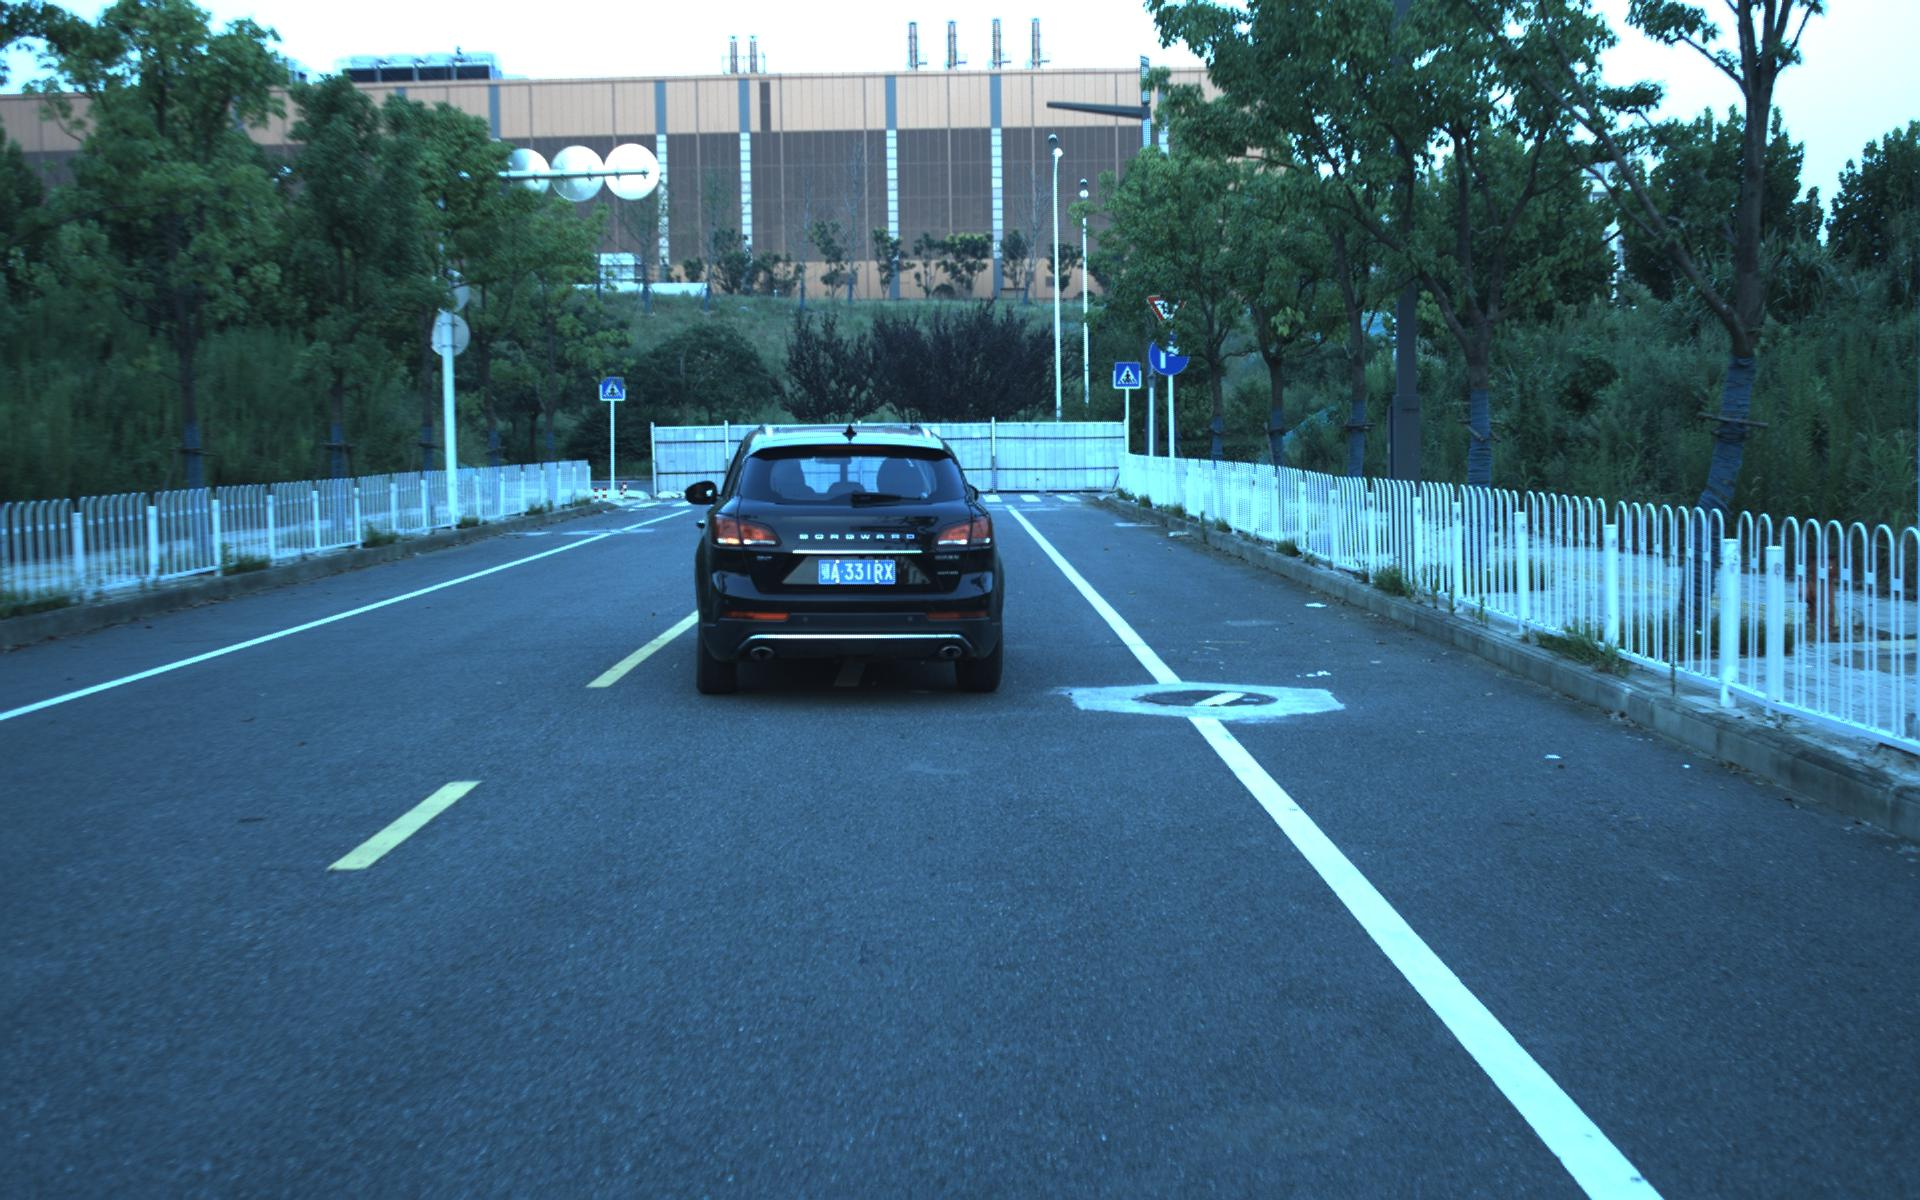Car: (693, 413, 1010, 700)
